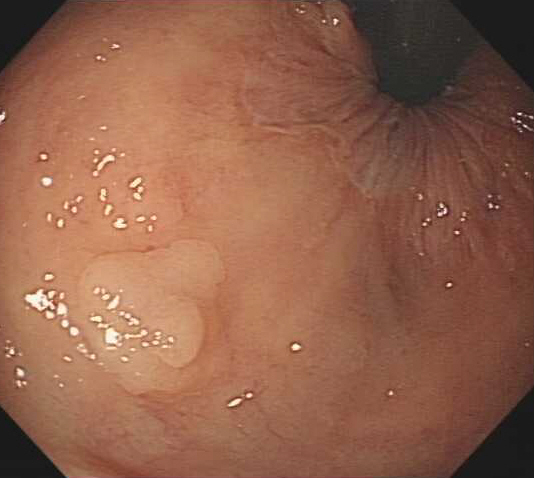others: (72, 236, 223, 395)
